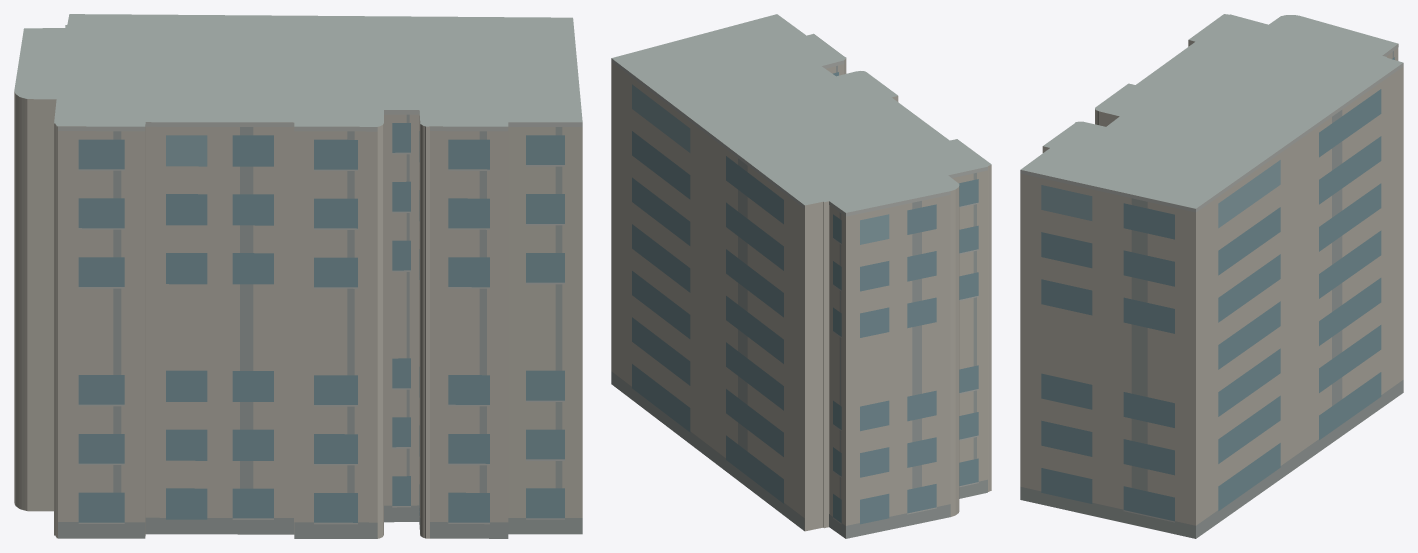
The model's file is survey-upis-33011671.glb.
3 views of the same model, side by side, from view 1: azimuth 30°, elevation 25°; view 2: azimuth 150°, elevation 25°; view 3: azimuth 270°, elevation 25° (orthographic). The views are drawn at different scales.
Visible parts, largest first — view 1: survey-upis-33011671.tmp; view 2: survey-upis-33011671.tmp; view 3: survey-upis-33011671.tmp.
Part boxes in pixels (x1,y1,x2,y2): survey-upis-33011671.tmp: (14,14,582,538); survey-upis-33011671.tmp: (611,14,991,538); survey-upis-33011671.tmp: (1020,14,1403,538).
Bounding box in the file's own units: 27.23 × 21.5 × 22.63.
